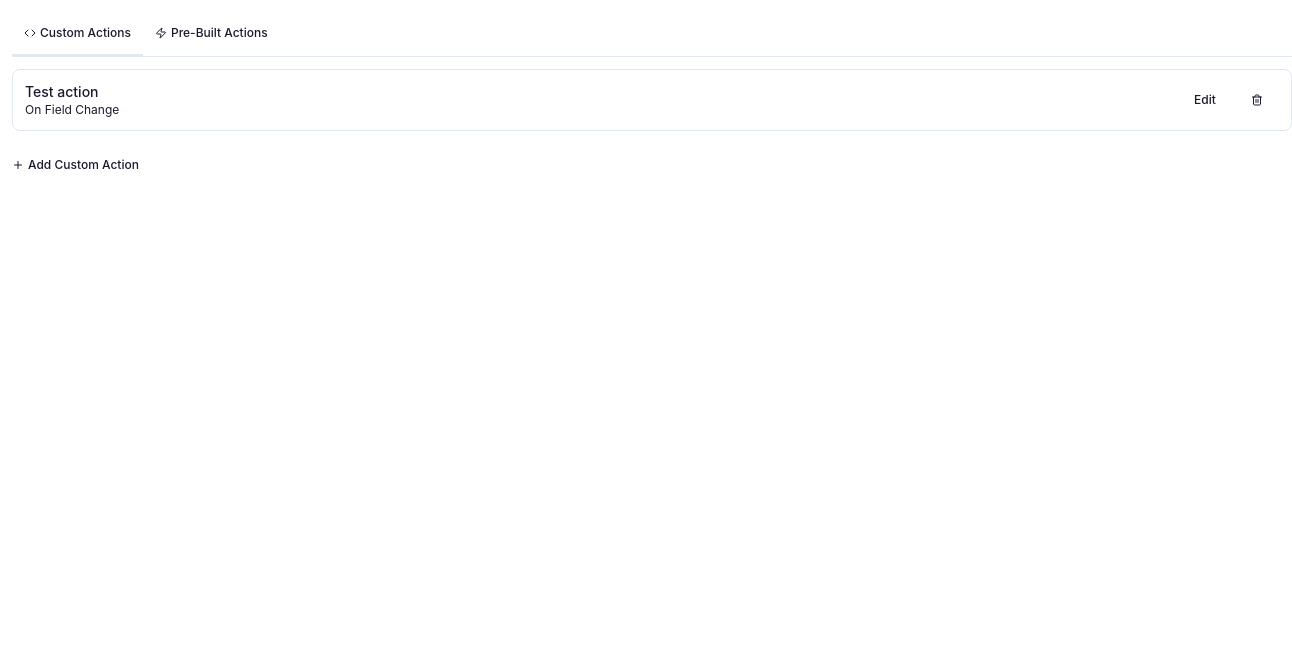
ActionEditor › editing actions › shows API reference toggle
Click the button "Edit".
click(1205, 100)  # box [1183,78,1227,122]
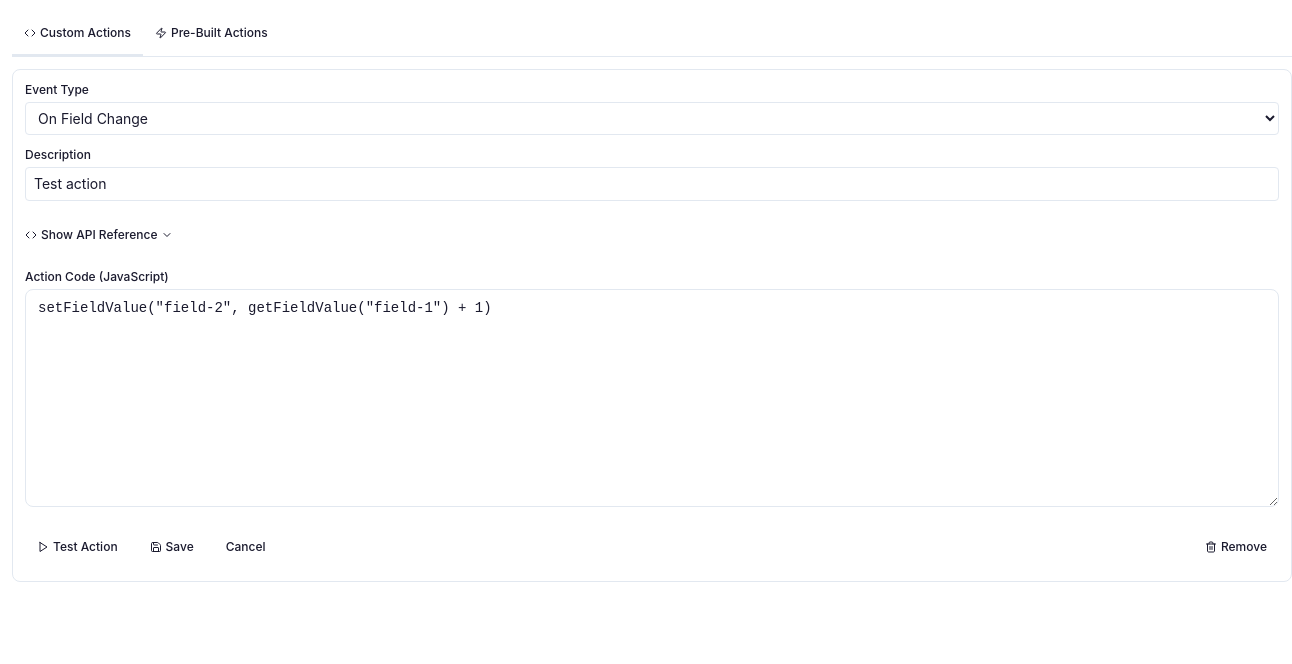
Result: the button "Show API Reference" is shown
// Click to show API reference
Click the button "Show API Reference".
click(99, 235)  # box [25,213,173,257]
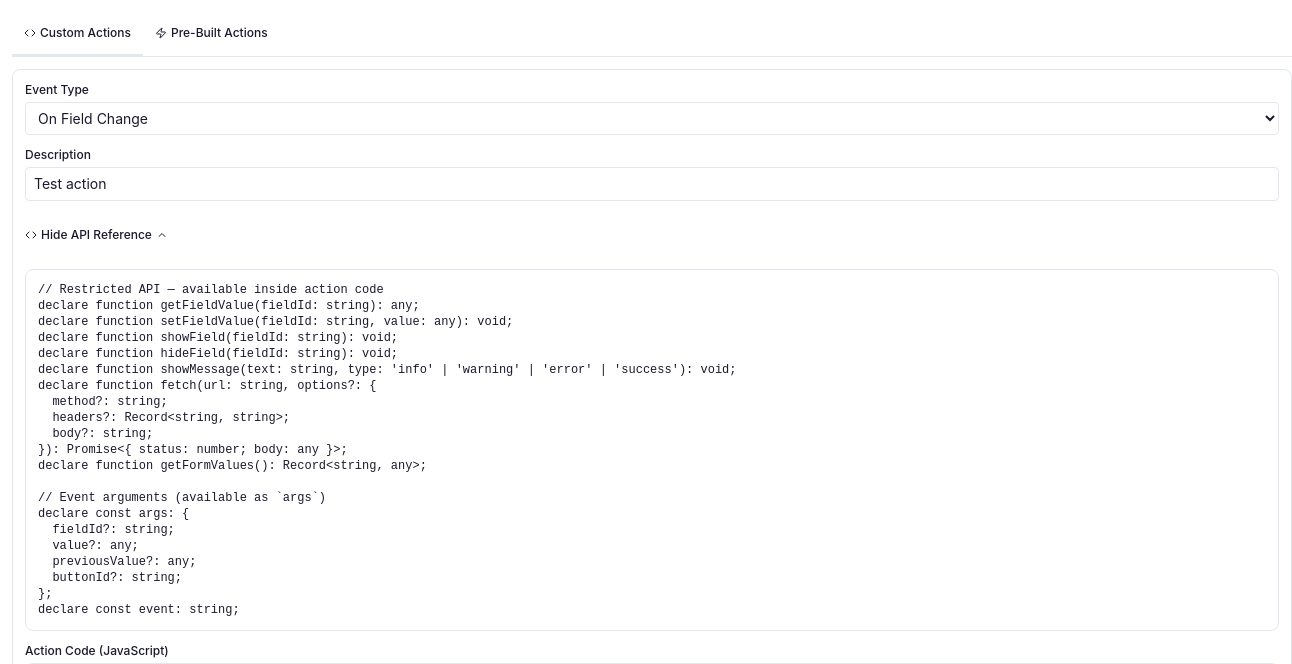
Result: the text "Restricted API — available inside action code" is shown at [38,283,736,617]
